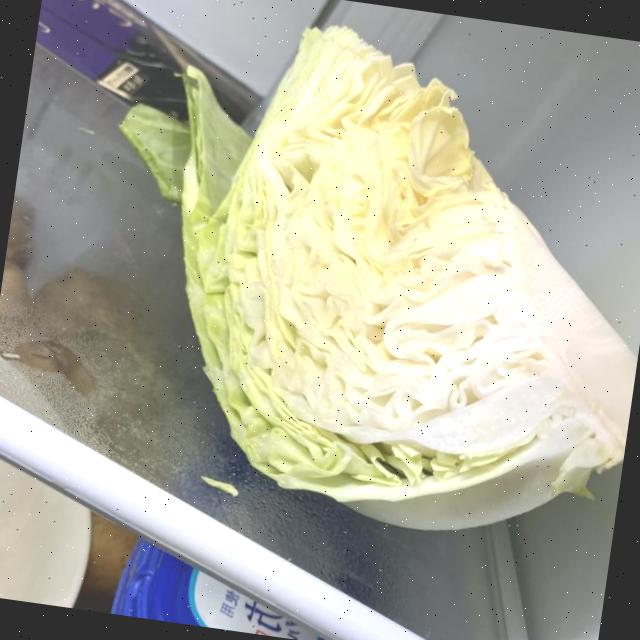cabbage: (69, 0, 640, 563)
